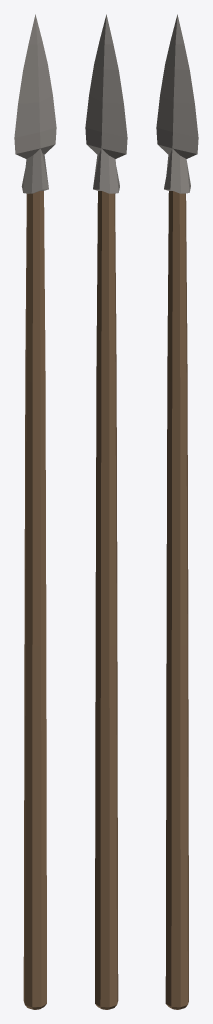
File: SM_pwe_medieval_spear_02a.fbx
3 renders of one model, left to right at view 1: azimuth 30°, elevation 25°; view 2: azimuth 150°, elevation 25°; view 3: azimuth 330°, elevation 25°, orthographic.
Visible parts, largest first — view 1: SM_pwe_medieval_spear_02a; view 2: SM_pwe_medieval_spear_02a; view 3: SM_pwe_medieval_spear_02a.
Boxes of the visible parts, box(x1,y1,x2,y2) form: SM_pwe_medieval_spear_02a: box(14, 14, 56, 1009); SM_pwe_medieval_spear_02a: box(85, 14, 127, 1009); SM_pwe_medieval_spear_02a: box(156, 14, 198, 1009).
Size of the model in its own units: 9.85 by 222 by 5.7.
